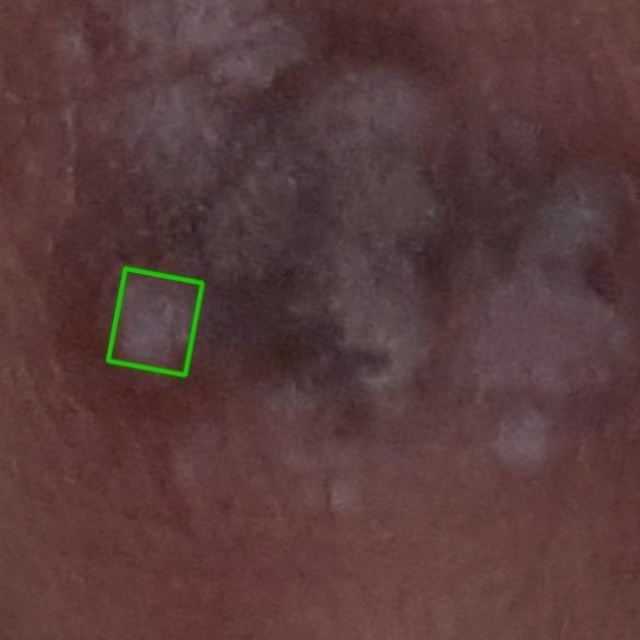Contact Dermatitis: (108, 268, 202, 375)
